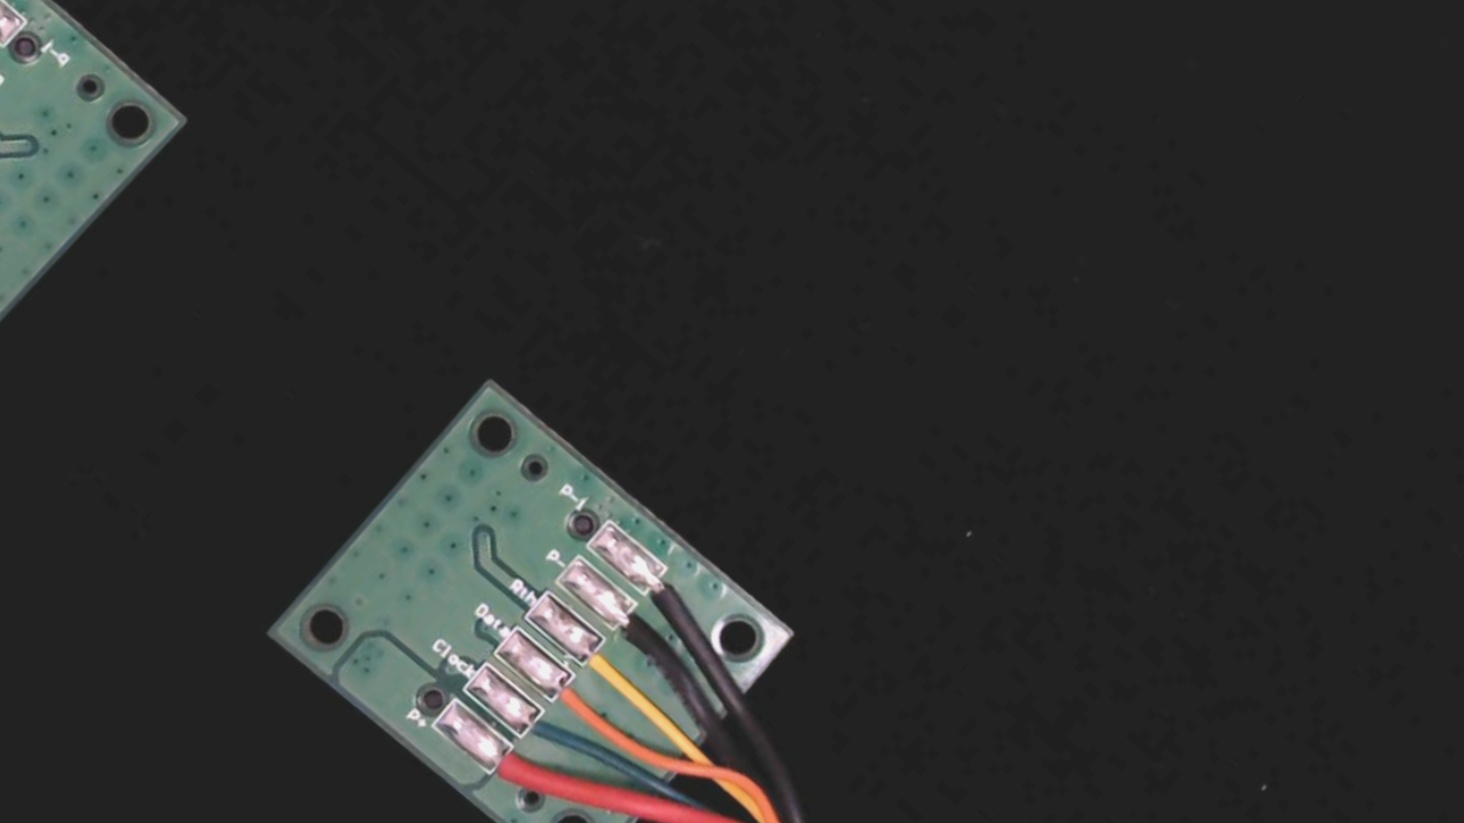Black: (595, 591, 680, 670)
Black1: (629, 552, 716, 634)
Green: (498, 693, 581, 772)
Orange: (531, 660, 612, 737)
Red: (467, 728, 559, 815)
Yellow: (565, 626, 650, 705)
